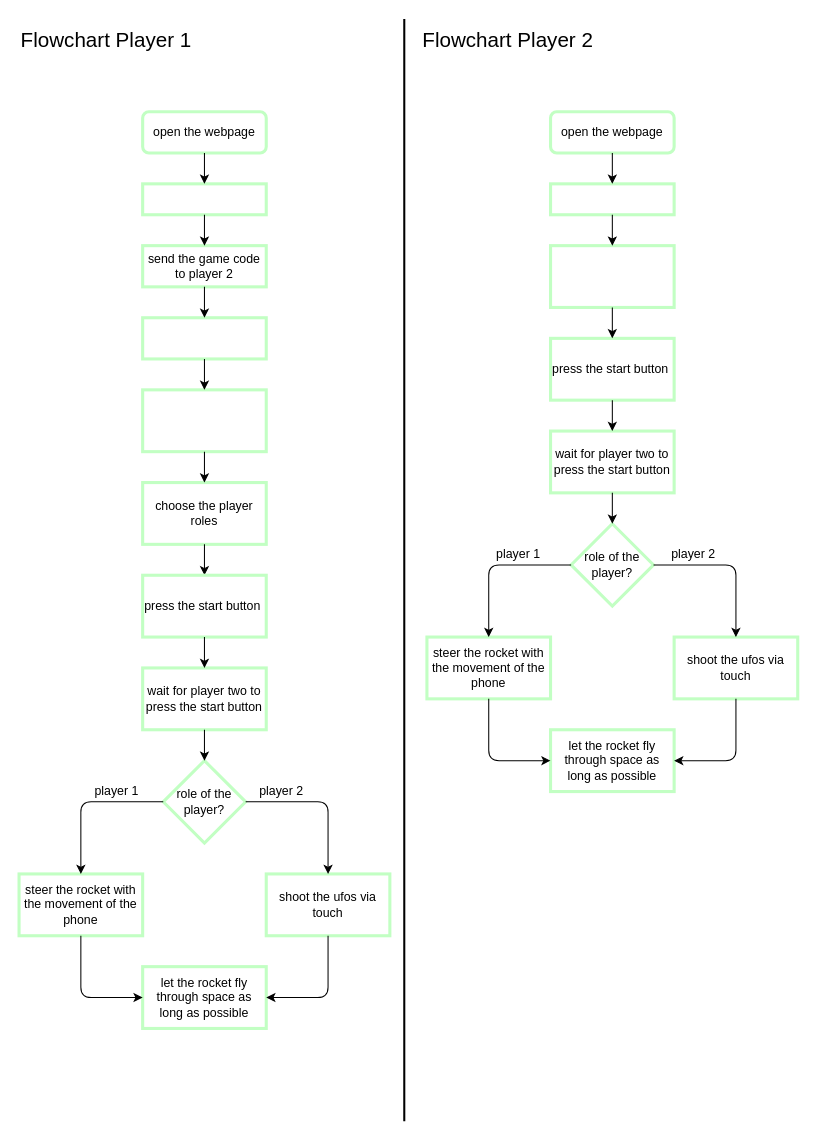
This 817x1140 diagram has some shape labels left out. The shapes that lost their labels are listed below. From the top down, each one's centre as x and y in pixels, then its label:
the point at 204,199: get the game code
the point at 611,199: enter the game code
the point at 611,276: choose the player role
the point at 204,338: choose galaxy
the point at 204,420: wait for player 2 to enter the game
